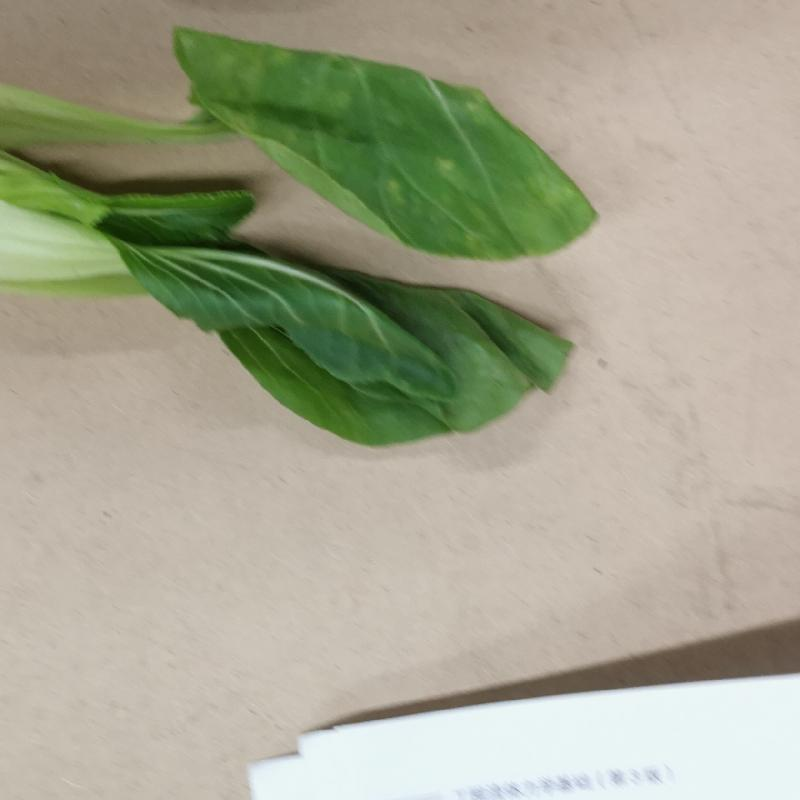green vegatable: (3, 24, 595, 455)
